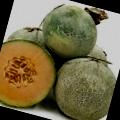Melon Ripe: (47, 48, 120, 120), (0, 33, 64, 115)
